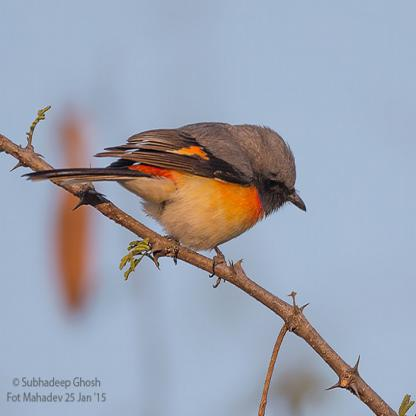Burung: (20, 122, 306, 286)
